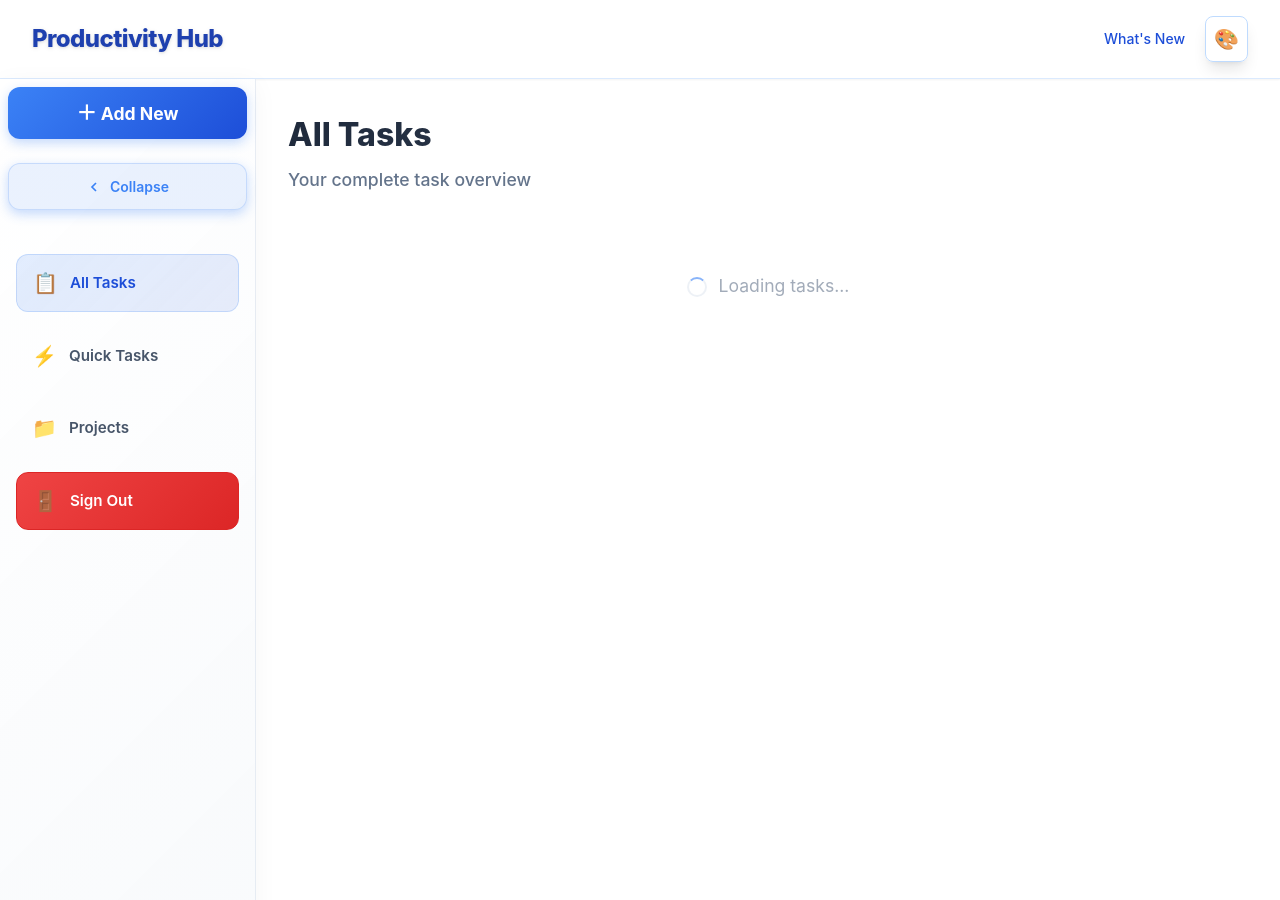
Test: Loading States › shows loading state for projects
Click the button "📁 Projects" at point(128, 428), box [16,400,239,456]
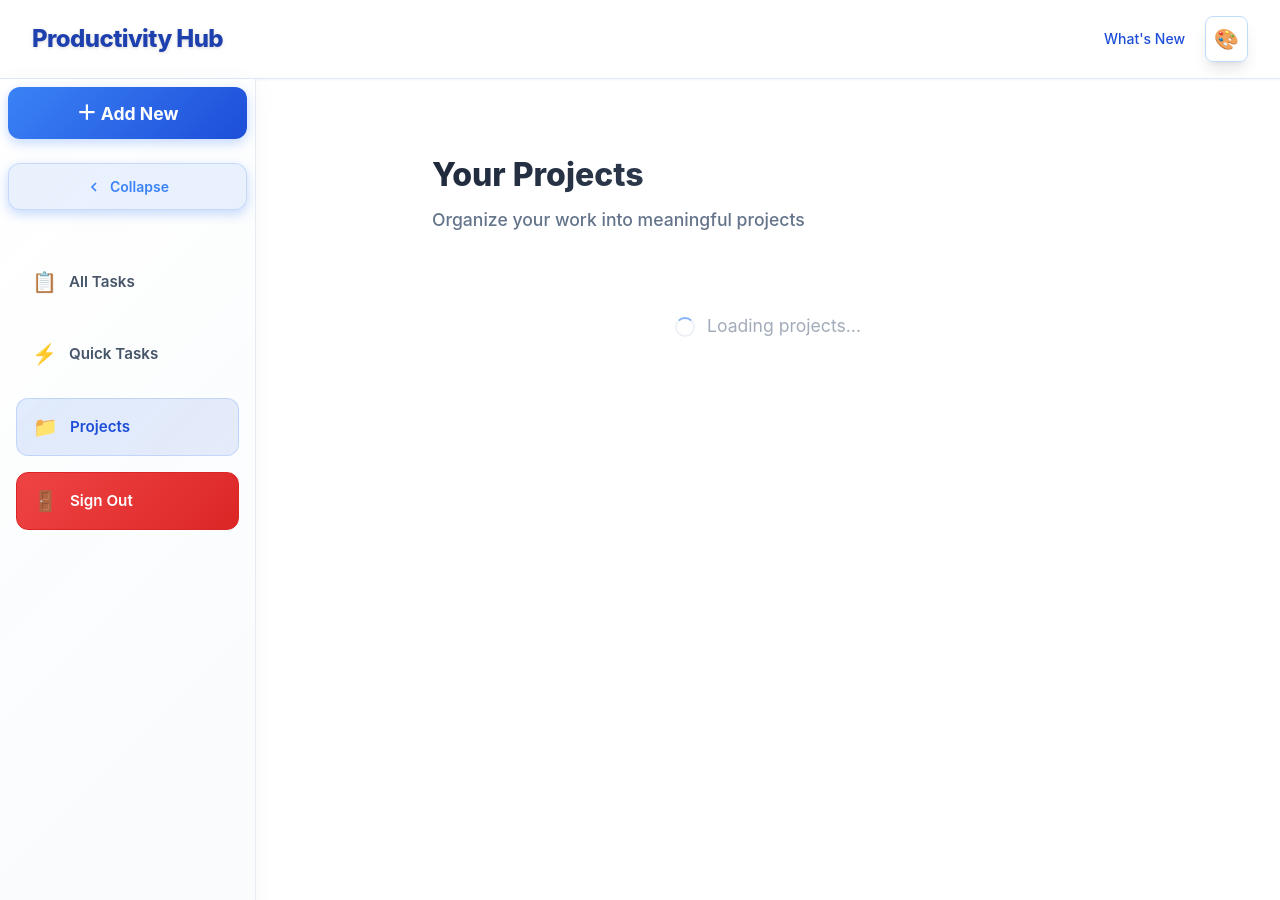
Now the text "Loading projects..." is shown, box [707,315,861,336]
